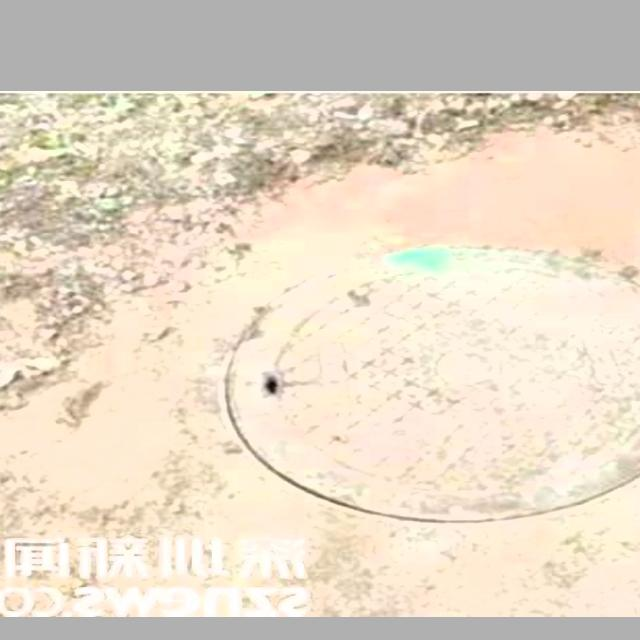good: (201, 231, 640, 532)
